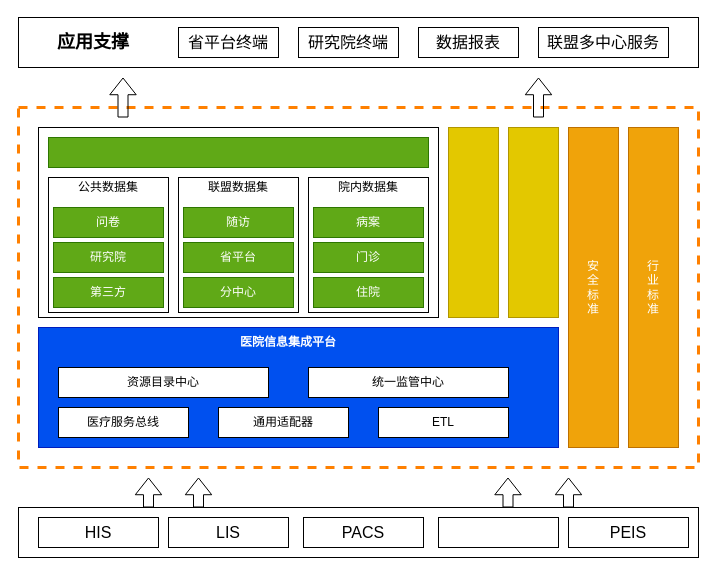
Some shapes in this 717 by 575 pixel diagram are drawn without their labels. The centre of each missing label's shape, as x and y in pixels:
EMR: the point at 498,532
主 数 据 管 理: the point at 533,222
患 者 主 索 引: the point at 473,222
数据资源中心: the point at 238,152
